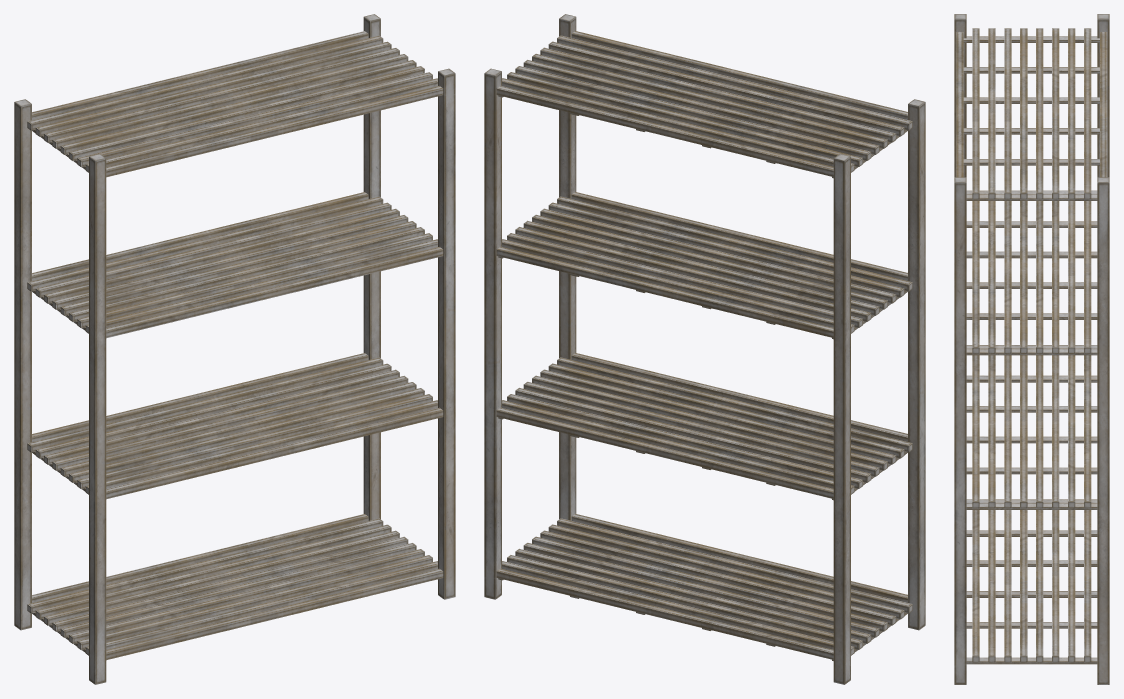
The model's file is Shelf_B.fbx.
3 renders of one model, left to right at view 1: azimuth 30°, elevation 25°; view 2: azimuth 150°, elevation 25°; view 3: azimuth 270°, elevation 25°, orthographic. The views are drawn at different scales.
Parts seen in each view (by area): view 1: Shelf_B; view 2: Shelf_B; view 3: Shelf_B.
Boxes of the visible parts, <box> form: Shelf_B: <box>14,14,455,684</box>; Shelf_B: <box>484,14,925,684</box>; Shelf_B: <box>954,14,1109,684</box>.
Size of the model in its own units: 165 by 229 by 64.13.
